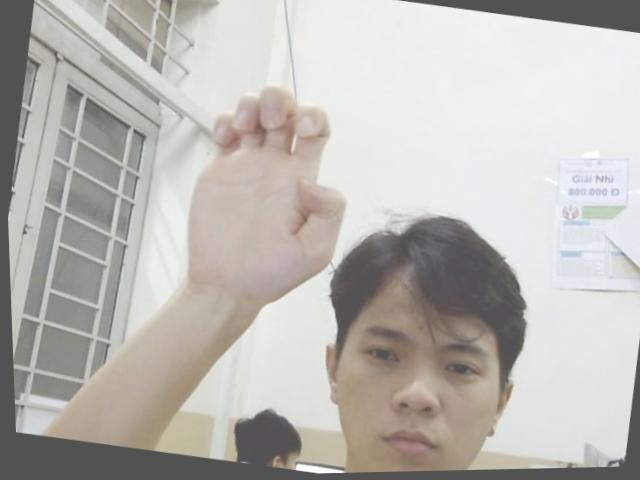E: (169, 72, 364, 305)
